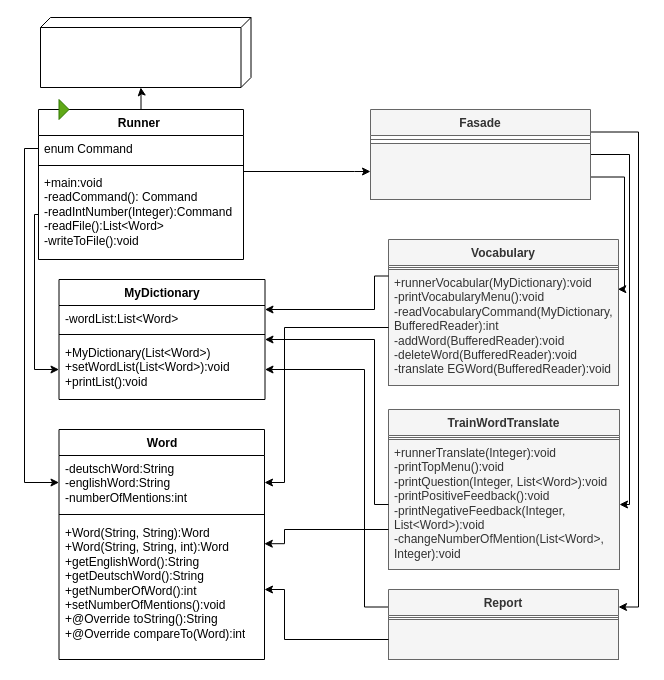
Image size: 664x680. Some labels were removed from this diagram. The centre of each missing label's shape, as x and y in pixels:
"+openVocabular(MyDictionary):void +openTrain():void +openResult():void" belongs at point (480, 171).
"+runReport(Integer):void -printBeaty(Integer, Integer, Integer):void" belongs at point (503, 639).
"Dictionary" belongs at point (145, 52).
